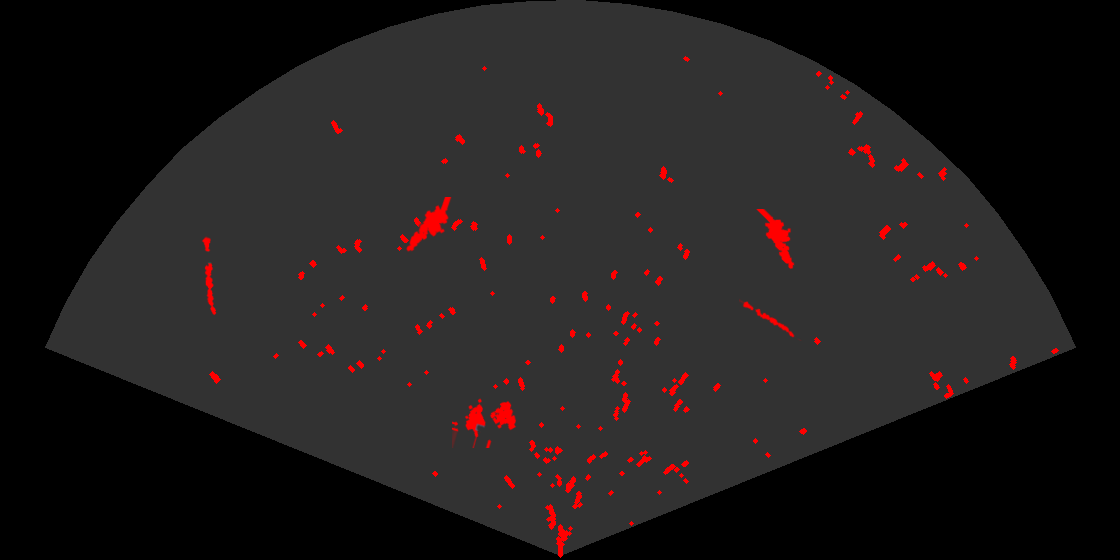cage: (452, 397, 518, 448)
chain: (739, 297, 803, 341), (200, 236, 218, 317)
frogman: (405, 197, 453, 254), (755, 209, 796, 271)
